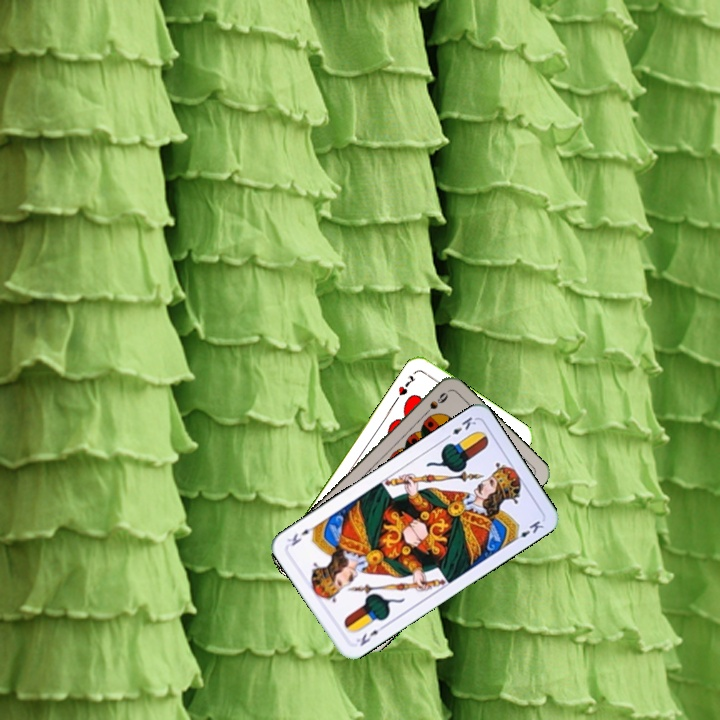EK: (441, 412, 479, 442), (352, 621, 387, 649)
H7: (394, 371, 418, 398)
S9: (418, 388, 451, 420)
